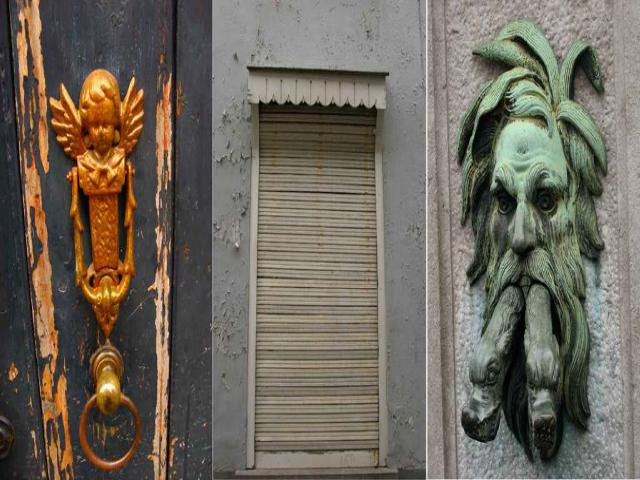Door-handle: (78, 344, 142, 476)
